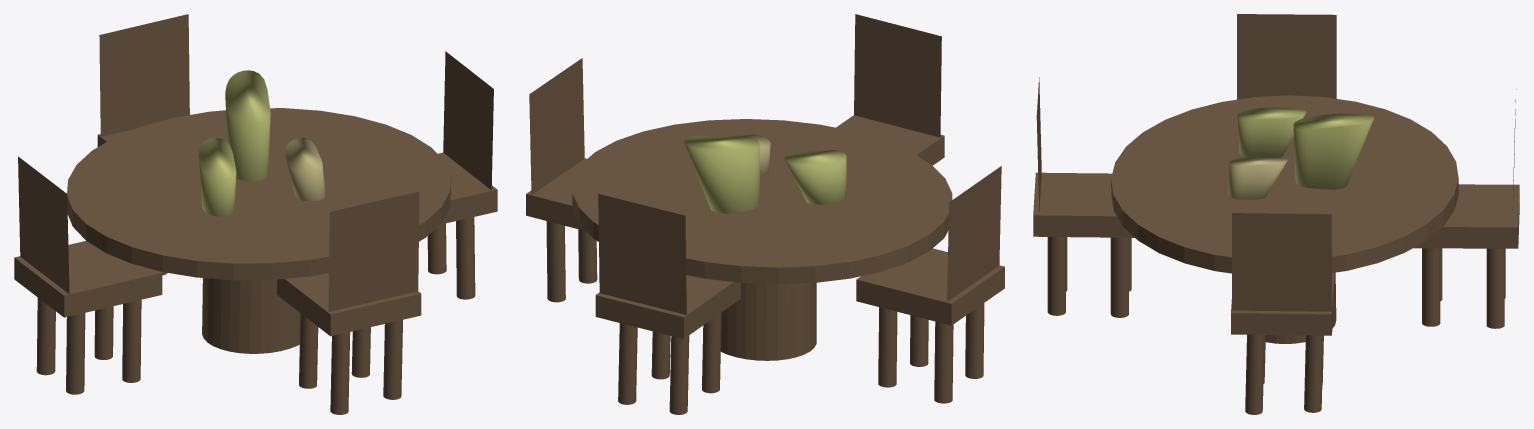
The picture shows the model from 3 angles, left to right: view 1: azimuth 30°, elevation 25°; view 2: azimuth 150°, elevation 25°; view 3: azimuth 270°, elevation 25°; orthographic projection. The views are drawn at different scales.
Parts seen in each view (by area): view 1: Plane.003, Cylinder.001, Cylinder.002, Cylinder; view 2: Plane.003, Cylinder.001, Cylinder.002, Cylinder; view 3: Plane.003, Cylinder.001, Cylinder.002, Cylinder.
Boxes of the visible parts, <box> form: Plane.003: <box>14,14,497,414</box>; Cylinder.001: <box>225,70,270,180</box>; Cylinder.002: <box>199,137,236,216</box>; Cylinder: <box>285,137,325,201</box>; Plane.003: <box>526,14,1004,414</box>; Cylinder.001: <box>683,135,759,213</box>; Cylinder.002: <box>784,150,846,204</box>; Cylinder: <box>744,134,770,176</box>; Plane.003: <box>1033,14,1519,414</box>; Cylinder.001: <box>1293,113,1373,189</box>; Cylinder.002: <box>1237,107,1306,157</box>; Cylinder: <box>1228,157,1287,199</box>.
Size of the model in its own units: 8.92 by 4.49 by 8.89.
